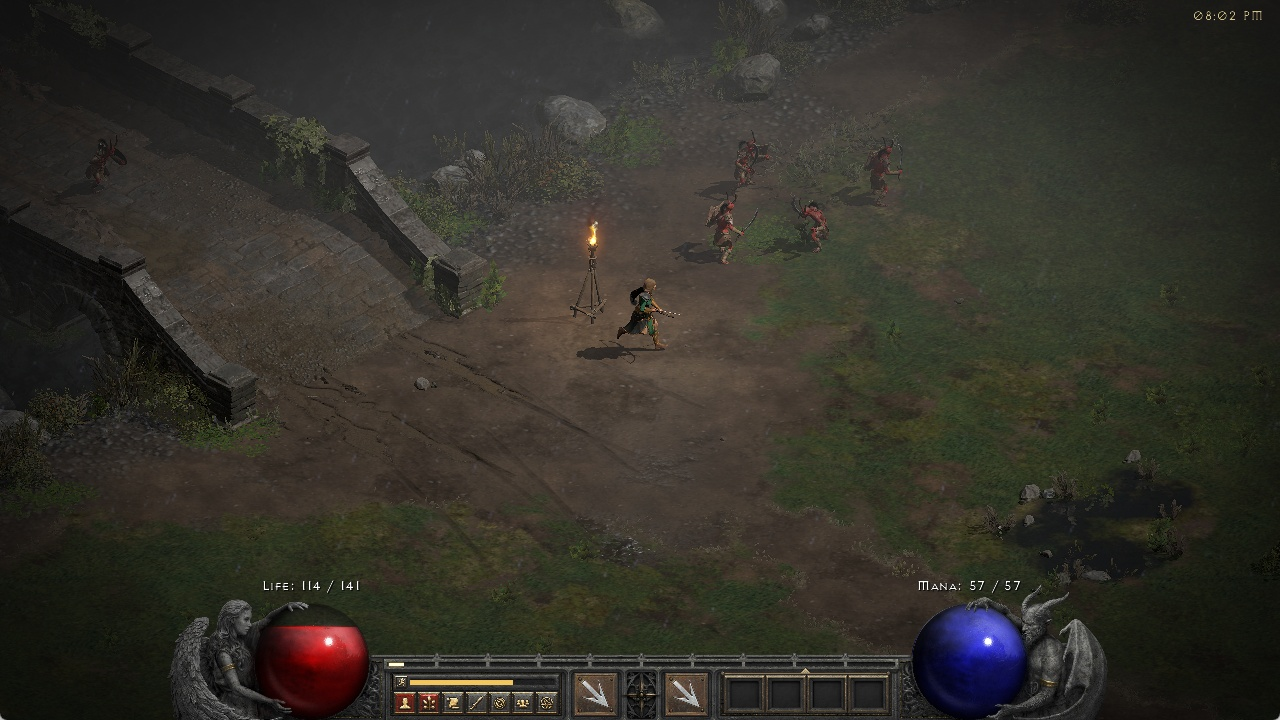fallen: (702, 192, 756, 268), (855, 135, 908, 206), (791, 193, 831, 259), (728, 132, 773, 188), (88, 131, 132, 186)
